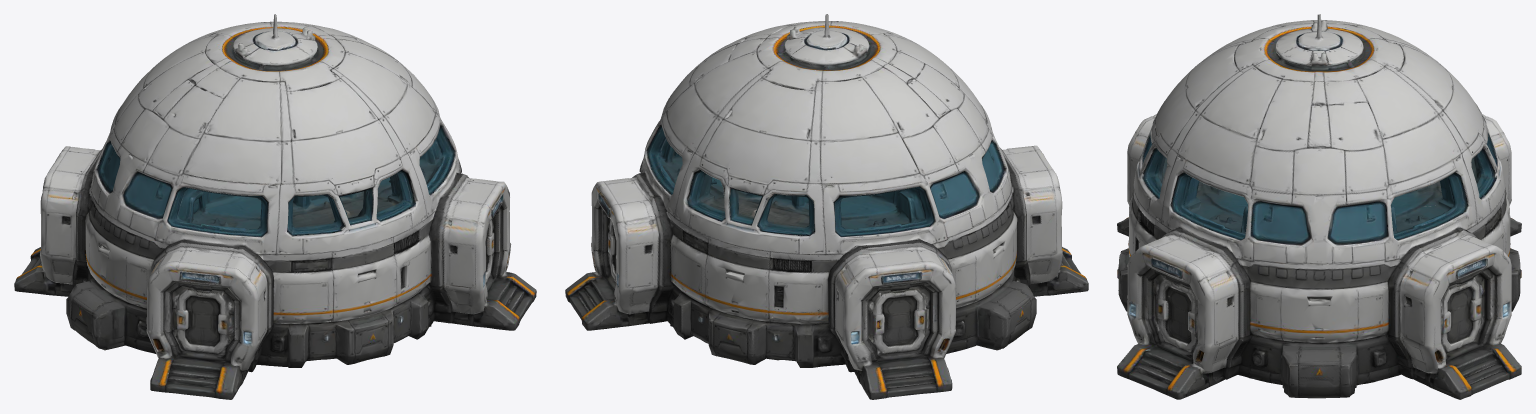
Rendered from tripo_convert_517c9c5e-ee8c-49f8-a5bb-9249232d99e9.fbx.
3 views of the same model, side by side, from view 1: azimuth 30°, elevation 25°; view 2: azimuth 150°, elevation 25°; view 3: azimuth 270°, elevation 25° (orthographic). The views are drawn at different scales.
Parts seen in each view (by area): view 1: tripo_node_517c9c5e; view 2: tripo_node_517c9c5e; view 3: tripo_node_517c9c5e.
Boxes of the visible parts, x1,y1,x2,y2 form: tripo_node_517c9c5e: (14, 14, 536, 399); tripo_node_517c9c5e: (565, 14, 1088, 399); tripo_node_517c9c5e: (1117, 14, 1521, 399).
Bounding box in the file's own units: 1 × 0.6849 × 0.8674.
1 material, 1 textured.
